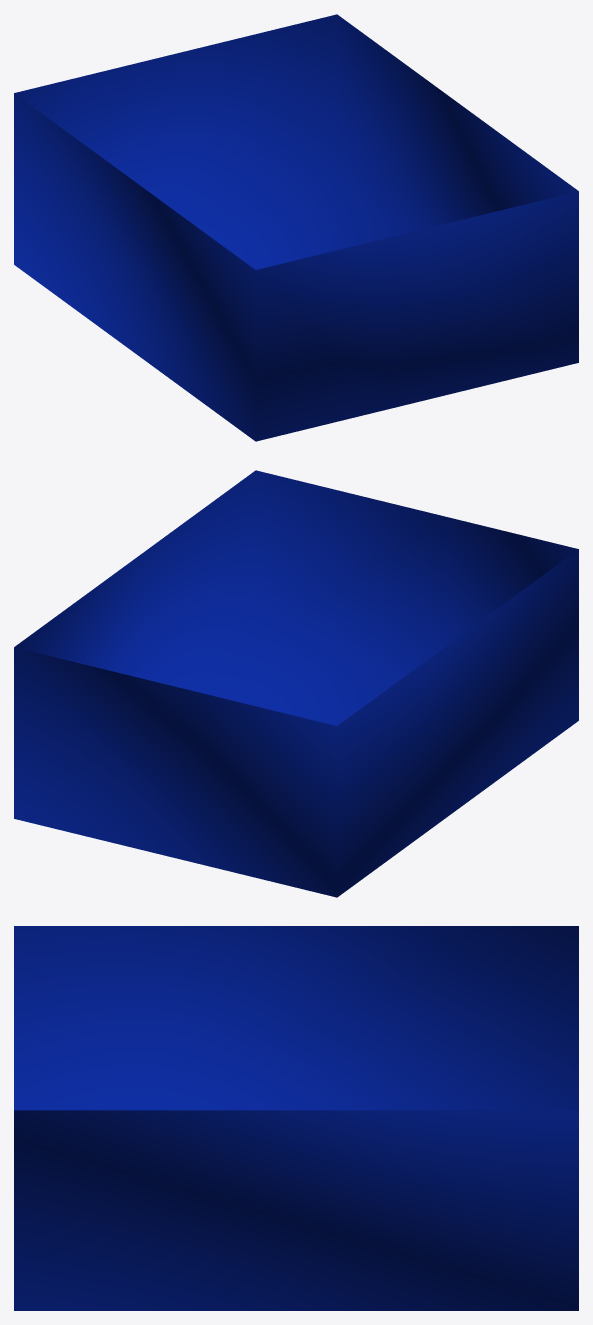
The model's file is Shooting, under.fbx.
The picture shows the model from 3 angles, top to bottom: view 1: azimuth 30°, elevation 25°; view 2: azimuth 150°, elevation 25°; view 3: azimuth 270°, elevation 25°; orthographic projection. The views are drawn at different scales.
Parts seen in each view (by area): view 1: Genre.008; view 2: Genre.008; view 3: Genre.008.
Part boxes in pixels (x1,y1,x2,y2): Genre.008: (14,14,578,441); Genre.008: (14,470,578,897); Genre.008: (14,926,578,1310).
Size of the model in its own units: 1281 by 1660 by 650.
